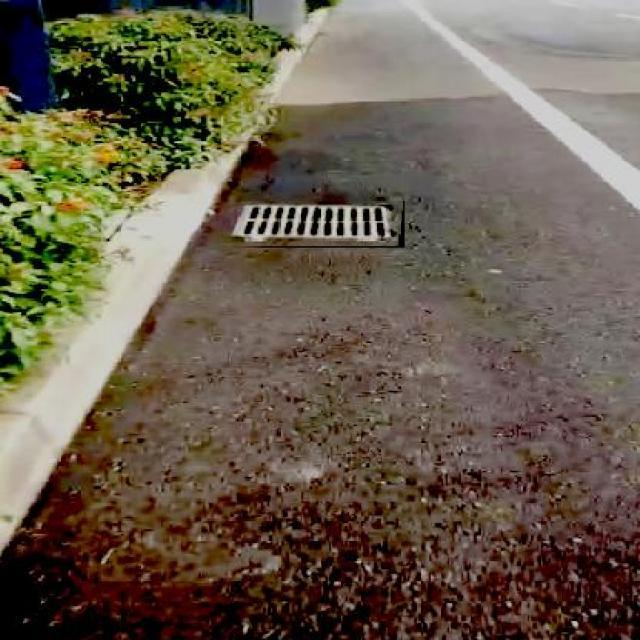Manhole: (230, 198, 404, 248)
